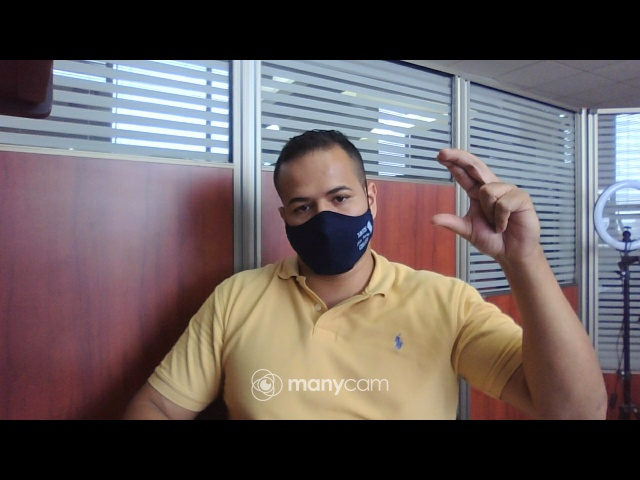No: (429, 144, 550, 264)
